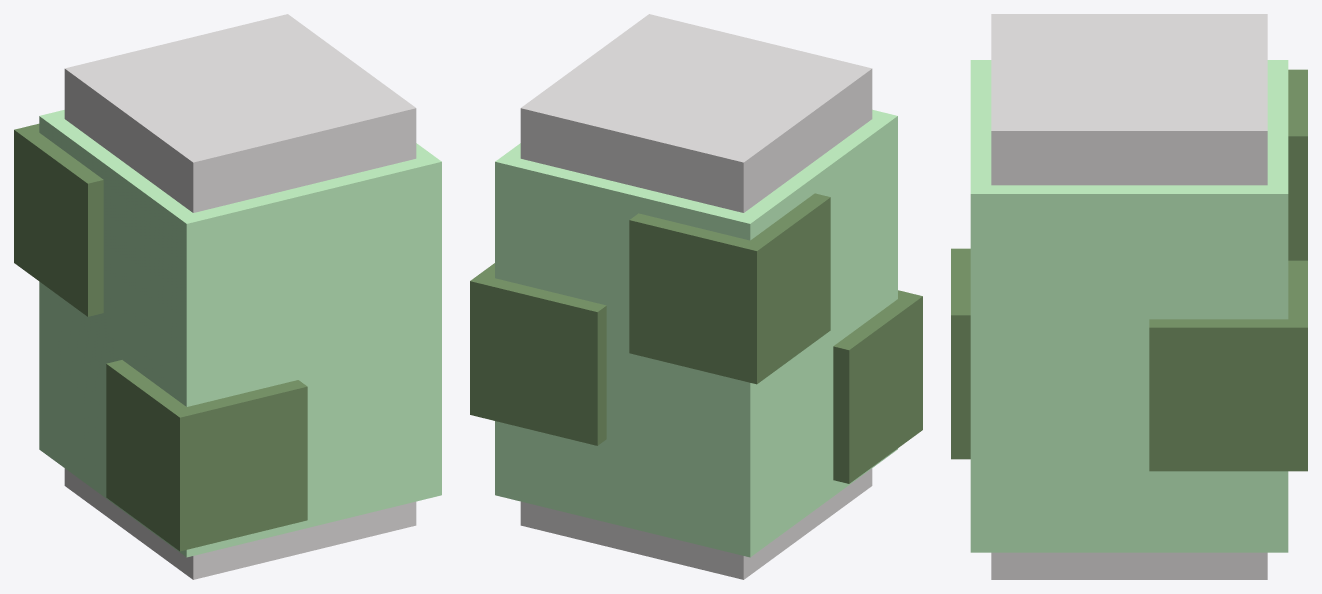
Rendered from egg_carnotaurus.obj.
3 views of the same model, side by side, from view 1: azimuth 30°, elevation 25°; view 2: azimuth 150°, elevation 25°; view 3: azimuth 270°, elevation 25° (orthographic). The views are drawn at different scales.
Parts seen in each view (by area): view 1: egg_carnotaurus; view 2: egg_carnotaurus; view 3: egg_carnotaurus.
Boxes of the visible parts, x1=… form: egg_carnotaurus: x1=14, y1=14, x2=441, y2=579; egg_carnotaurus: x1=470, y1=14, x2=922, y2=579; egg_carnotaurus: x1=951, y1=14, x2=1307, y2=579.
Bounding box in the file's own units: 5.23 × 7.27 × 5.24.
